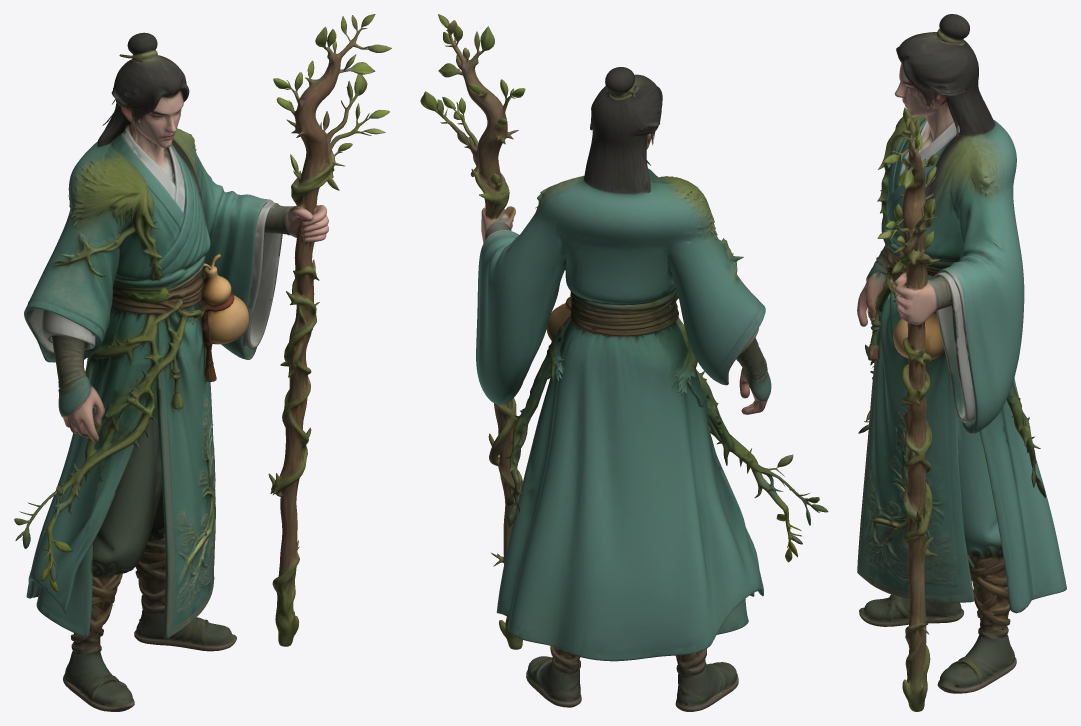
The model's file is np_peng.glb.
The picture shows the model from 3 angles, left to right: view 1: azimuth 30°, elevation 25°; view 2: azimuth 150°, elevation 25°; view 3: azimuth 270°, elevation 25°; orthographic projection.
Visible parts, largest first — view 1: node_0; view 2: node_0; view 3: node_0.
Boxes of the visible parts, bbox=[...] form: node_0: bbox=[14, 14, 391, 711]; node_0: bbox=[420, 14, 828, 711]; node_0: bbox=[857, 14, 1066, 711].
Size of the model in its own units: 0.6616 by 1.04 by 0.3117.
Materials: 1 (1 with a texture image).
